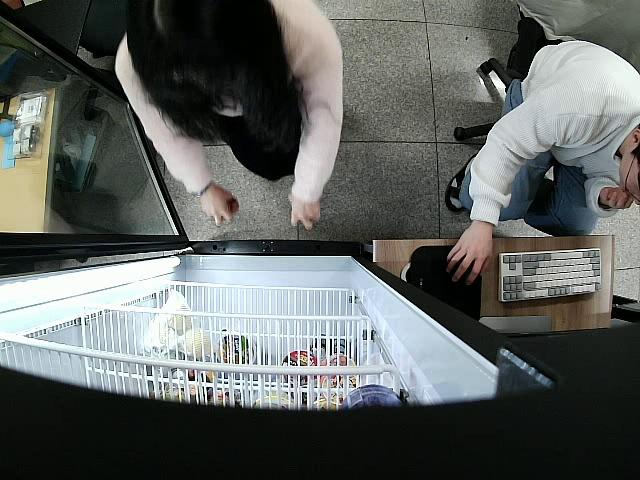00_hand: (445, 226, 493, 286), (287, 193, 323, 233), (202, 187, 237, 227)
